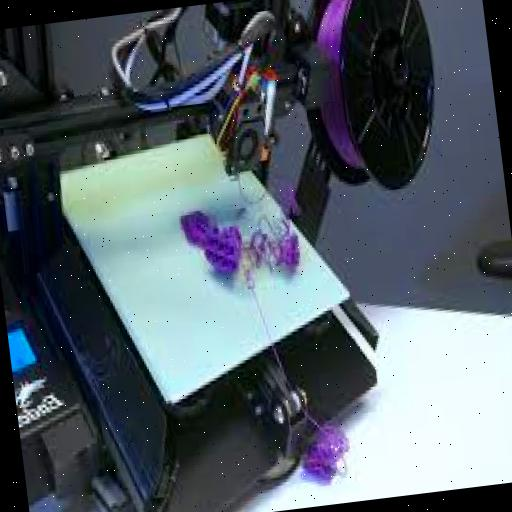spaghetti: (171, 192, 309, 294), (288, 401, 360, 500)
